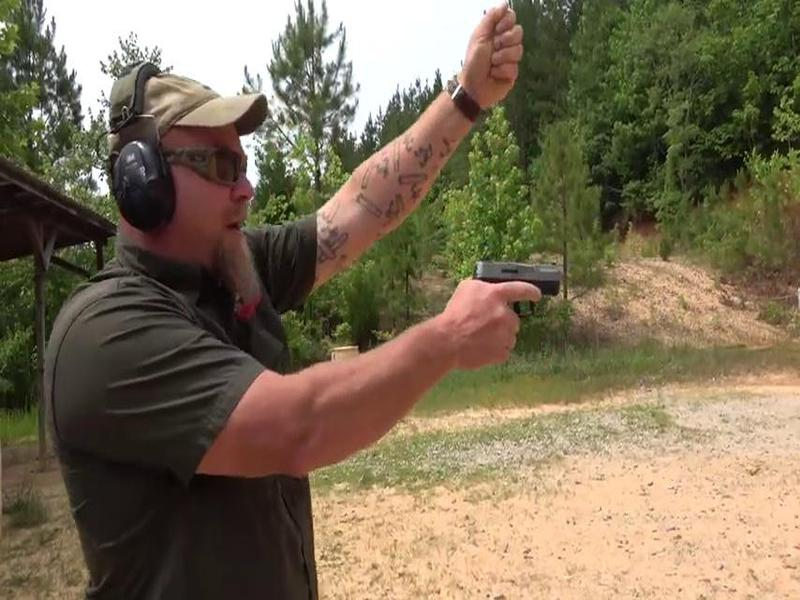Pistola: (467, 257, 571, 322)
